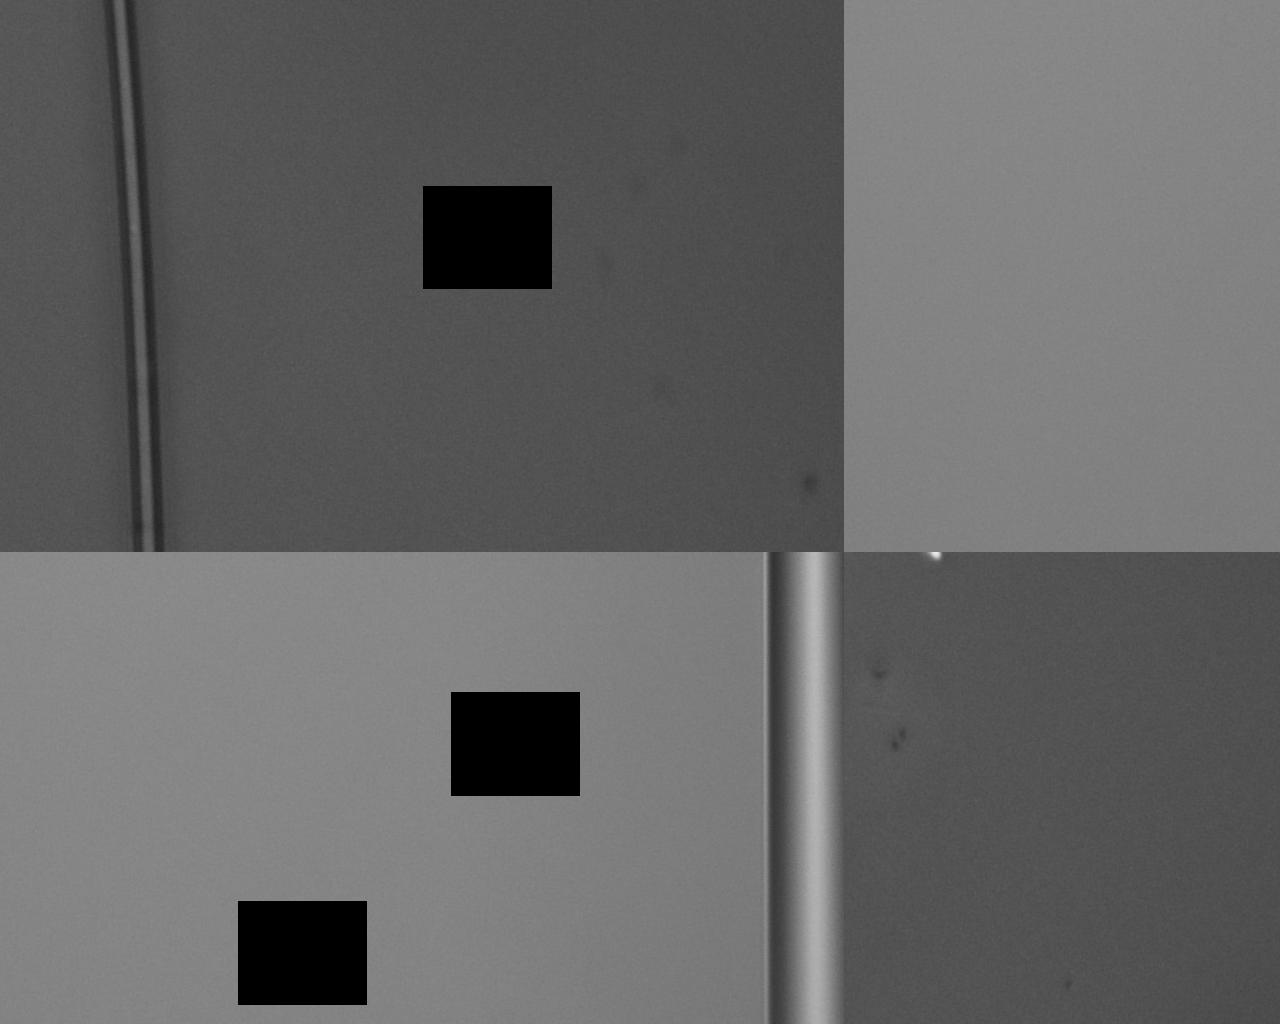fiber: (0, 235, 614, 512), (742, 0, 989, 512), (652, 826, 1280, 1024), (0, 712, 571, 861)
